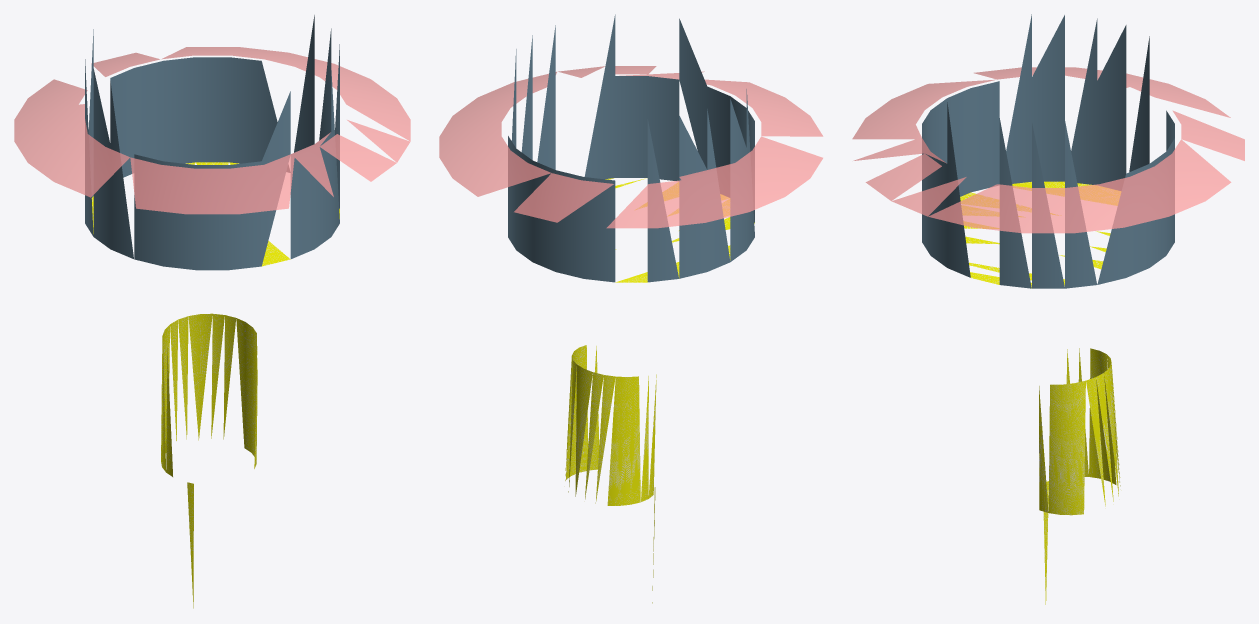
3 renders of one model, left to right at view 1: azimuth 30°, elevation 25°; view 2: azimuth 150°, elevation 25°; view 3: azimuth 270°, elevation 25°, orthographic. The views are drawn at different scales.
Size of the model in its own units: 0.2579 by 0.4 by 0.2579.
